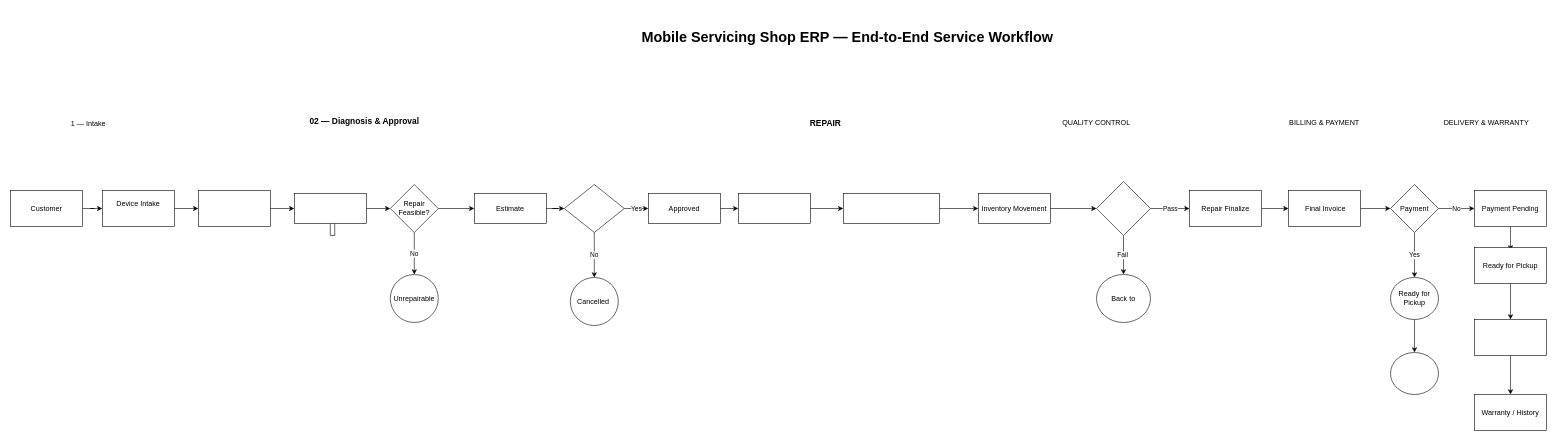
The diagram is 1563 pixels wide and 441 high, and some of its shapes have lost their labels. Here are the shapes that lost their labels. From the top down, the centre of each, then its label:
At point (234, 208): "Create Service Order".
At point (330, 208): "Diagnosis".
At point (594, 208): "Customer Approval".
At point (774, 208): "Assign Technician".
At point (891, 208): "Repair + Parts Consumption".
At point (1123, 208): "Quality Check".
At point (1510, 337): "Device Delivered".
At point (1414, 373): "Paid".
